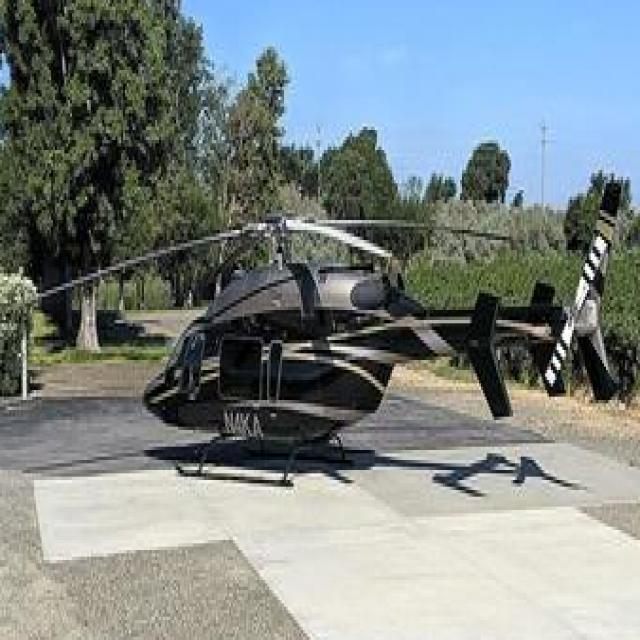helicopter: (60, 144, 626, 501)
